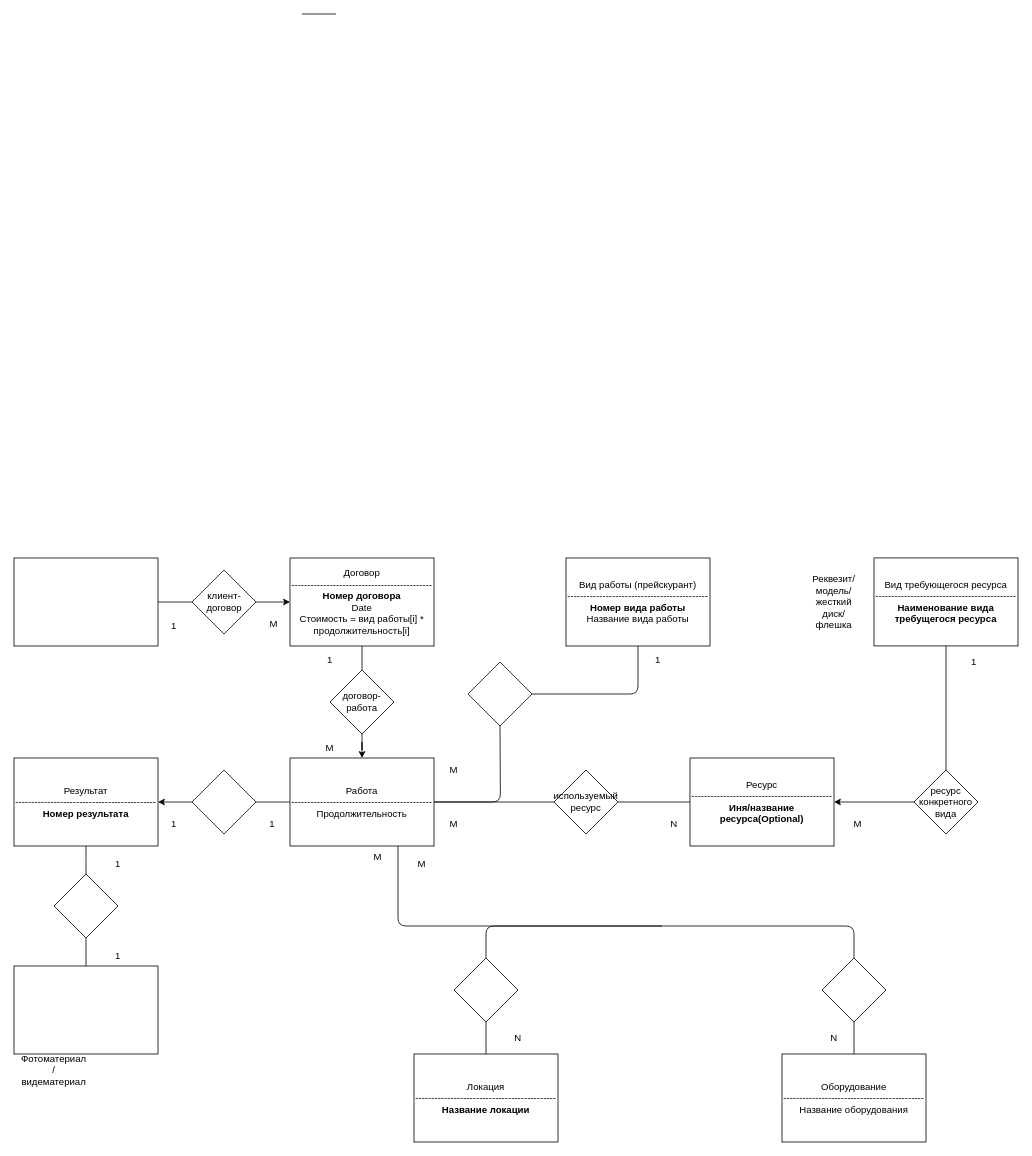
Image size: 1032x1156. Some labels were removed from this diagram. The centre of each missing label's shape, as x and y in pixels:
вид работы - работа: (x=499, y=693)
Клиент -------------------------------------------- ФИО Клиента: (x=85, y=601)
Рабочая локация: (x=485, y=989)
Результат работы: (x=223, y=801)
Тип выходного материала --------------------------------------------: (x=85, y=1009)
требующееся оборудование: (x=853, y=989)
